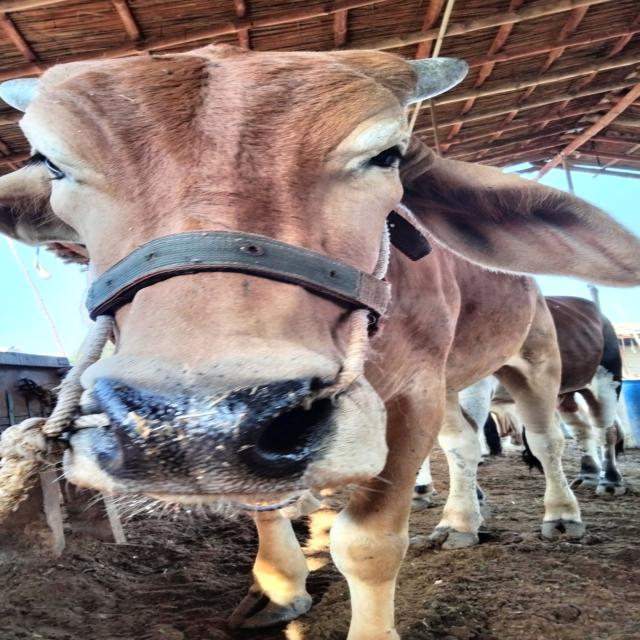muzzles: (77, 371, 348, 492)
